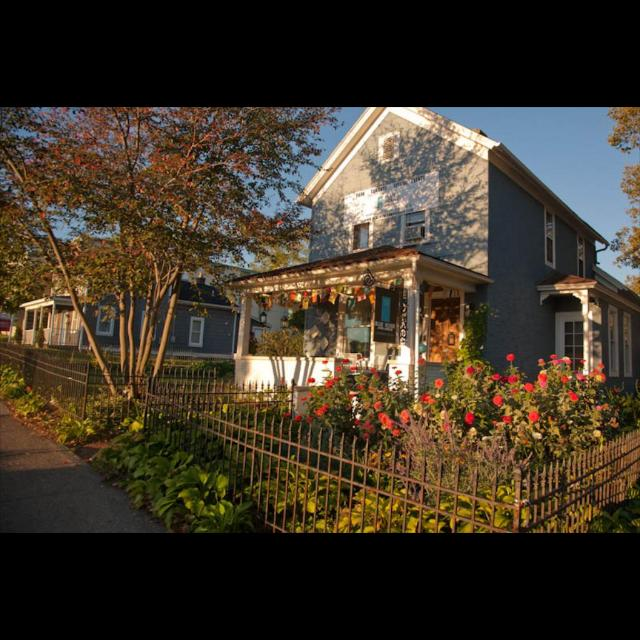Flower: (276, 351, 626, 462), (504, 351, 516, 359)
